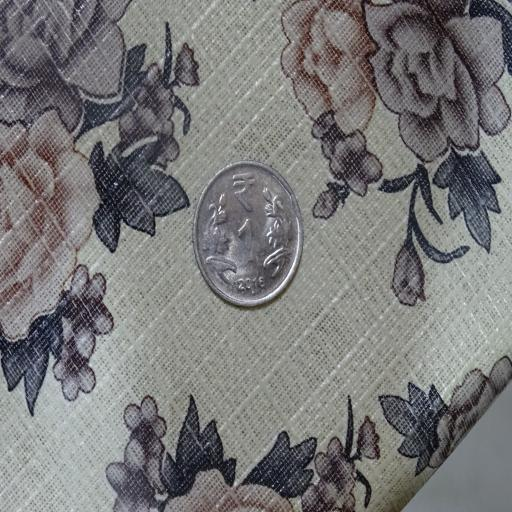rupee1: (192, 160, 303, 310)
